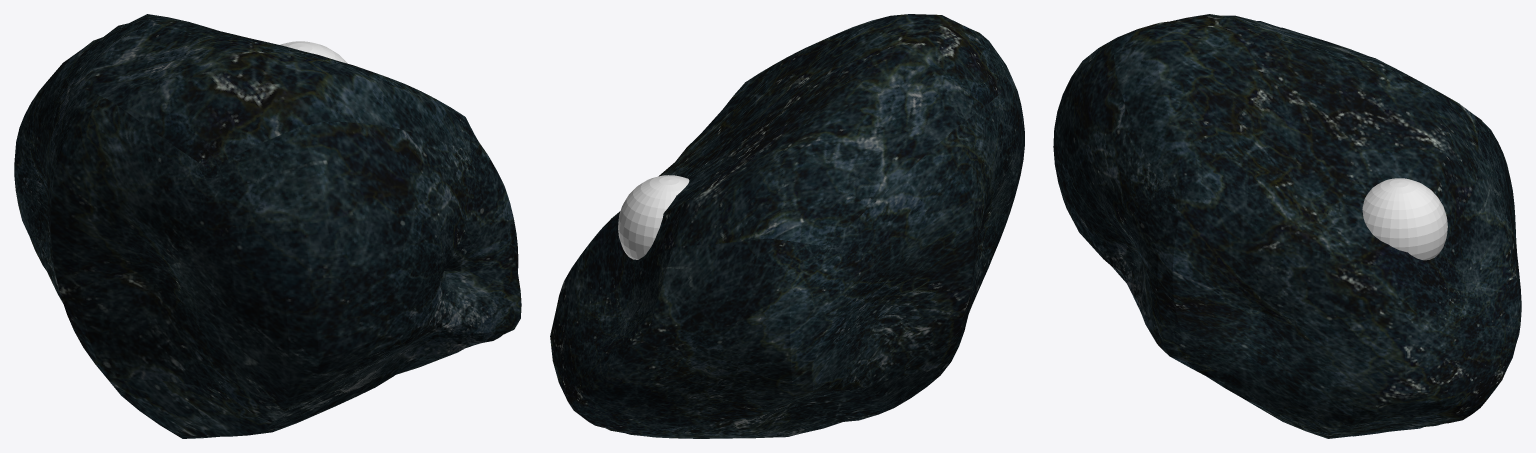
File: rock1.fbx
3 views of the same model, side by side, from view 1: azimuth 30°, elevation 25°; view 2: azimuth 150°, elevation 25°; view 3: azimuth 270°, elevation 25° (orthographic). The views are drawn at different scales.
Visible parts, largest first — view 1: Cube, Cube_cell.002, Cube_cell.006, Cube_cell.009, Cube_cell.008, Cube_cell, Cube_cell.001, Cube_cell.007, Cube_cell.010, Cube_cell.016, Cube_cell.012, Cube_cell.019 (+2 smaller); view 2: Cube, Cube_cell.007, Cube_cell.019, Cube_cell.013, Cube_cell.018, Cube_cell.004, Cube_cell.010, Cube_cell.015, Sphere.001, Cube_cell.006, Cube_cell.009, Cube_cell.017 (+2 smaller); view 3: Cube, Cube_cell.018, Cube_cell.014, Cube_cell.013, Cube_cell.003, Cube_cell.002, Cube_cell.016, Sphere.001, Cube_cell.008, Cube_cell.015, Cube_cell.007, Cube_cell.004 (+2 smaller).
Part boxes in pixels (x1=…): Cube: x1=14, y1=14, x2=521, y2=438; Cube_cell.002: x1=261, y1=87, x2=460, y2=320; Cube_cell.006: x1=63, y1=62, x2=248, y2=355; Cube_cell.009: x1=181, y1=119, x2=322, y2=376; Cube_cell.008: x1=402, y1=185, x2=520, y2=369; Cube_cell: x1=182, y1=347, x2=404, y2=436; Cube_cell.001: x1=286, y1=233, x2=419, y2=367; Cube_cell.007: x1=27, y1=14, x2=217, y2=288; Cube_cell.010: x1=59, y1=289, x2=219, y2=438; Cube_cell.016: x1=216, y1=31, x2=476, y2=185; Cube_cell.012: x1=238, y1=344, x2=407, y2=406; Cube_cell.019: x1=14, y1=83, x2=62, y2=302; Cube: x1=550, y1=14, x2=1024, y2=438; Cube_cell.007: x1=742, y1=94, x2=976, y2=343; Cube_cell.019: x1=741, y1=232, x2=904, y2=417; Cube_cell.013: x1=550, y1=242, x2=704, y2=411; Cube_cell.018: x1=578, y1=112, x2=805, y2=262; Cube_cell.004: x1=655, y1=227, x2=764, y2=425; Cube_cell.010: x1=840, y1=278, x2=981, y2=422; Cube_cell.015: x1=571, y1=305, x2=666, y2=422; Sphere.001: x1=618, y1=175, x2=689, y2=259; Cube_cell.006: x1=900, y1=41, x2=1009, y2=296; Cube_cell.009: x1=974, y1=56, x2=1024, y2=271; Cube_cell.017: x1=698, y1=414, x2=840, y2=438; Cube: x1=1053, y1=14, x2=1521, y2=438; Cube_cell.018: x1=1267, y1=75, x2=1477, y2=343; Cube_cell.014: x1=1153, y1=193, x2=1280, y2=372; Cube_cell.013: x1=1387, y1=161, x2=1506, y2=415; Cube_cell.003: x1=1255, y1=327, x2=1453, y2=438; Cube_cell.002: x1=1058, y1=51, x2=1130, y2=242; Cube_cell.016: x1=1125, y1=41, x2=1312, y2=197; Sphere.001: x1=1362, y1=178, x2=1447, y2=260; Cube_cell.008: x1=1097, y1=186, x2=1172, y2=357; Cube_cell.015: x1=1480, y1=227, x2=1521, y2=403; Cube_cell.007: x1=1290, y1=30, x2=1481, y2=126; Cube_cell.004: x1=1468, y1=128, x2=1518, y2=267.
Bounding box in the file's own units: 205 × 197 × 240.
Materials: 1 (1 with a texture image).
